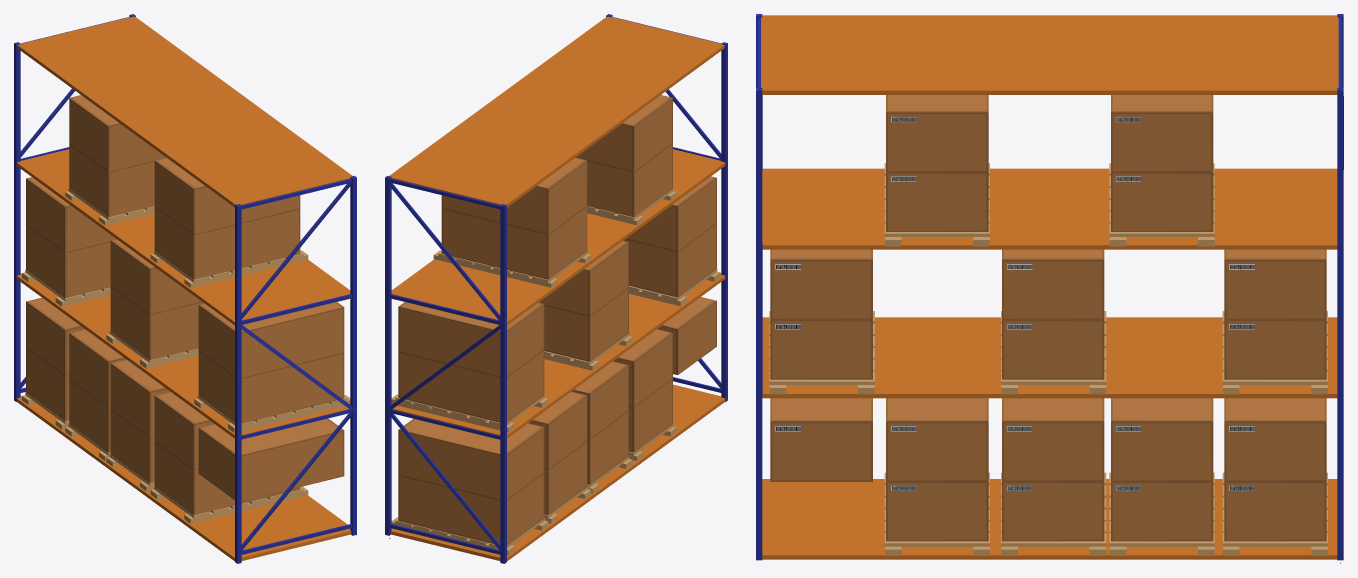
File: wareHouseShelf.fbx
3 renders of one model, left to right at view 1: azimuth 30°, elevation 25°; view 2: azimuth 150°, elevation 25°; view 3: azimuth 270°, elevation 25°, orthographic. The views are drawn at different scales.
Parts seen in each view (by area): view 1: _AllBoxes, _MainShelf, _SingleShelf, _SingleBottomPlane, AllCrates; view 2: _AllBoxes, _MainShelf, _SingleShelf, AllCrates, _SingleBottomPlane; view 3: _AllBoxes, _MainShelf, _SingleShelf, _SingleBottomPlane, AllCrates.
Part boxes in pixels (x1,y1,x2,y2): _AllBoxes: (26,95,344,515); _MainShelf: (14,14,356,554); _SingleShelf: (14,273,356,563); _SingleBottomPlane: (16,396,351,561); AllCrates: (22,188,350,523); _AllBoxes: (398,95,716,545); _MainShelf: (385,14,727,554); _SingleShelf: (385,273,727,563); AllCrates: (391,188,720,555); _SingleBottomPlane: (390,384,725,561); _AllBoxes: (770,95,1326,541); _MainShelf: (756,14,1343,394); _SingleShelf: (756,317,1343,560); _SingleBottomPlane: (762,479,1337,559); AllCrates: (769,163,1327,555).
Size of the model in its own units: 115 by 331 by 371.
1 material, 1 textured.
